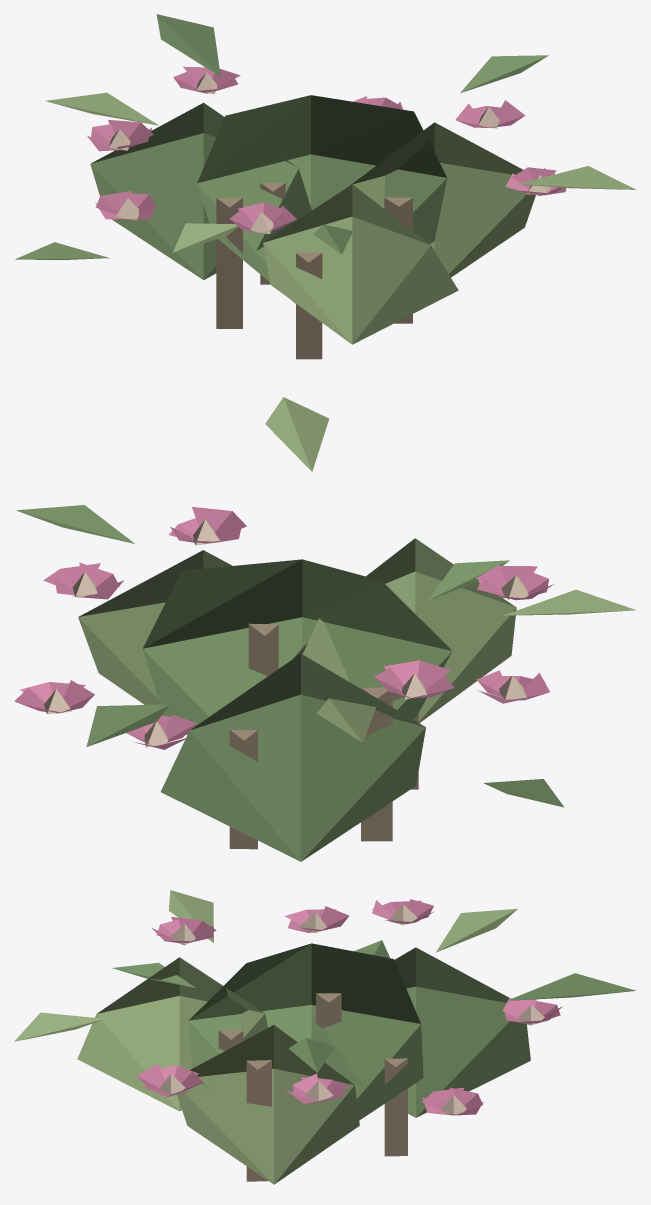
File: guan.aili@flowering__summer.glb
The picture shows the model from 3 angles, top to bottom: view 1: azimuth 30°, elevation 25°; view 2: azimuth 150°, elevation 25°; view 3: azimuth 270°, elevation 25°; orthographic projection. The views are drawn at different scales.
Visible parts, largest first — view 1: guan.aili@flowering__summer; view 2: guan.aili@flowering__summer; view 3: guan.aili@flowering__summer.
Part boxes in pixels (x1,y1,x2,y2): guan.aili@flowering__summer: (15, 14, 636, 359); guan.aili@flowering__summer: (14, 397, 636, 861); guan.aili@flowering__summer: (14, 890, 636, 1184).
Size of the model in its own units: 2.07 by 0.8506 by 2.32.
